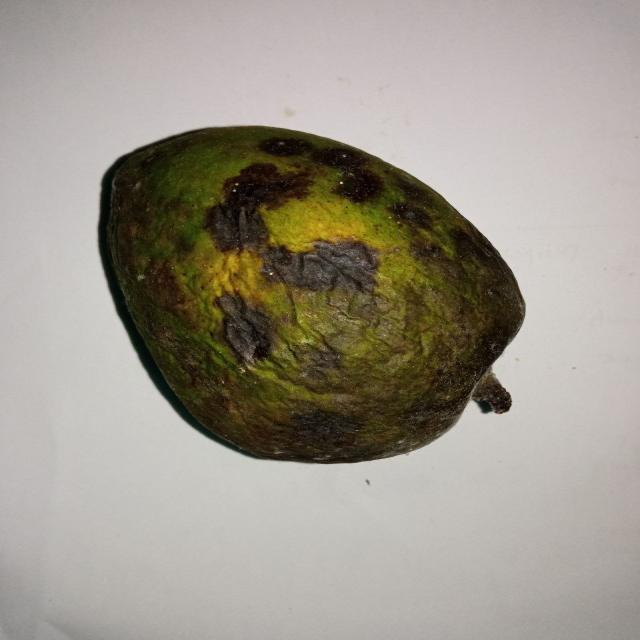rotten_mango: (99, 122, 531, 460)
